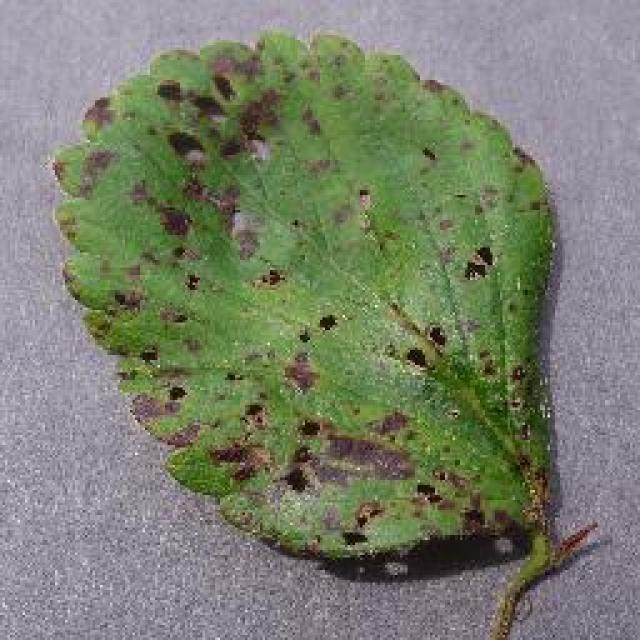Strawberry leaf scorch: (68, 65, 547, 550)
